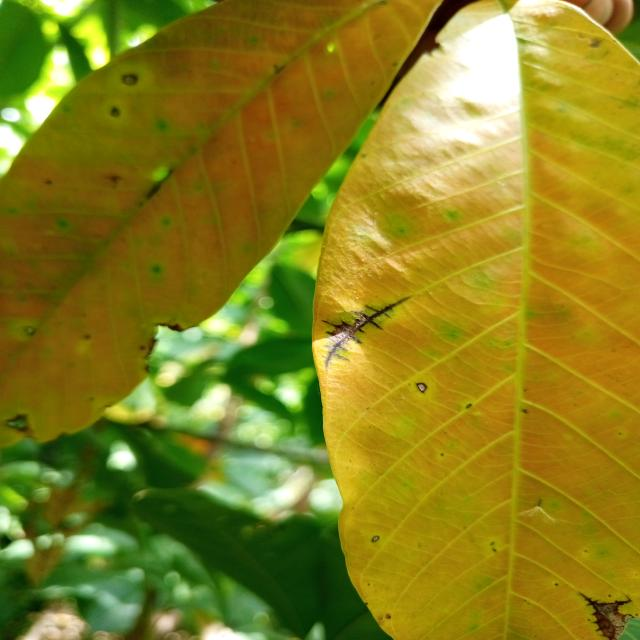Colletotrichum: (416, 382, 427, 393), (371, 535, 380, 542)
Corynespora: (321, 296, 411, 368), (578, 592, 634, 640)
